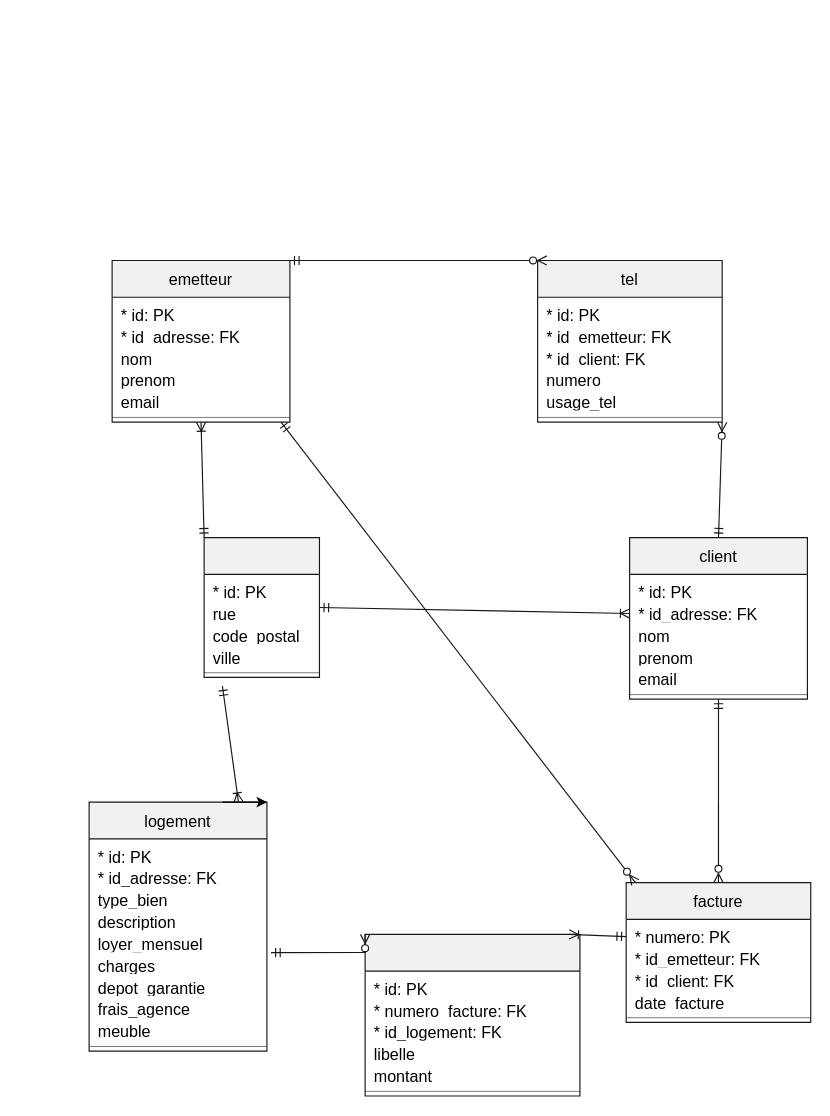
This 830x1116 diagram has some shape labels left out. Each missing label, with the box of its shape:
adresse: (203, 536, 319, 677)
ligne_facture: (364, 933, 580, 1096)
